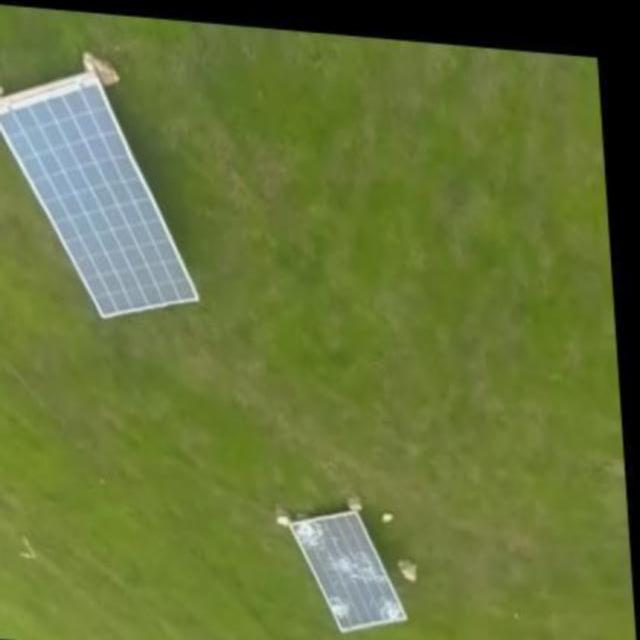cracked: (290, 504, 408, 630)
